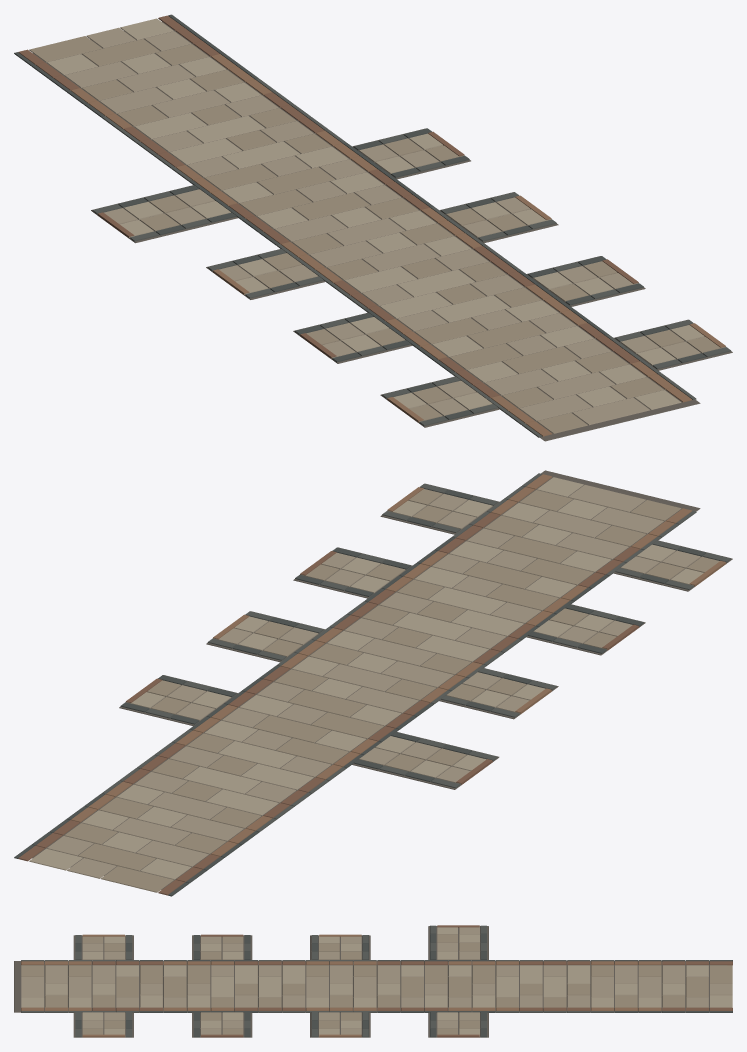
The model's file is house-walk.glb.
3 renders of one model, top to bottom at view 1: azimuth 30°, elevation 25°; view 2: azimuth 150°, elevation 25°; view 3: azimuth 270°, elevation 25°, orthographic. The views are drawn at different scales.
Parts seen in each view (by area): view 1: Limestone, Brick, Basalt, Mortar; view 2: Limestone, Brick, Basalt, Mortar; view 3: Limestone, Brick, Basalt, Mortar.
Part boxes in pixels (left/top/right/bottom): Limestone: left=29, top=18, right=725, bottom=433; Brick: left=18, top=15, right=725, bottom=436; Basalt: left=14, top=14, right=730, bottom=437; Mortar: left=33, top=21, right=732, bottom=441; Limestone: left=29, top=477, right=719, bottom=892; Brick: left=18, top=474, right=726, bottom=895; Basalt: left=14, top=473, right=730, bottom=896; Mortar: left=32, top=470, right=732, bottom=889; Limestone: left=21, top=926, right=732, bottom=1036; Brick: left=21, top=925, right=732, bottom=1037; Basalt: left=21, top=925, right=732, bottom=1037; Mortar: left=14, top=926, right=726, bottom=1037.
Size of the model in its own units: 5.57 by 0.032 by 15.2.
